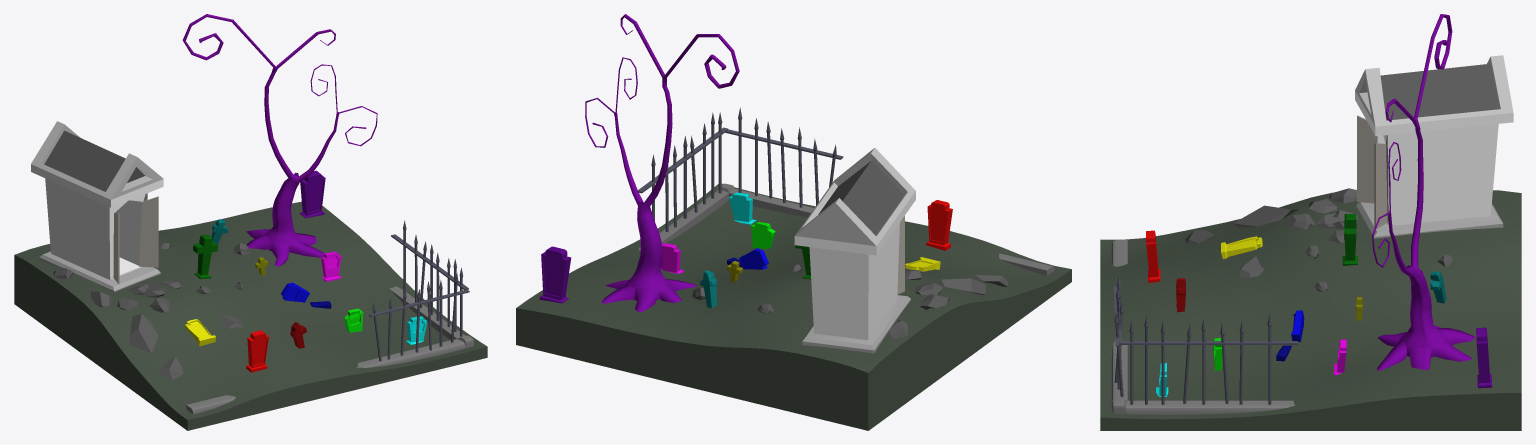
The model's file is MadiganGraveYard.fbx.
3 renders of one model, left to right at view 1: azimuth 30°, elevation 25°; view 2: azimuth 150°, elevation 25°; view 3: azimuth 270°, elevation 25°, orthographic. The views are drawn at different scales.
Visible parts, largest first — view 1: Ground, Cypt, Tree1, Fence_Foundation_2_f_0_, Right_Door, HS_Large, Rock12, HS_Normal1, HS_Cross_L, HS_Small_2, HS_Normal_Broken, Left_Door; view 2: Ground, Cypt, Tree1, Fence_Foundation_2_f_0_, HS_Large, HS_Normal1, HS_Small_1, HS_Small_Broken_1, Rock12; view 3: Ground, Cypt, Tree1, Fence_Foundation_2_f_0_, Left_Door, Right_Door, Rock12, HS_Large, Connector, HS_Cross_L, HS_Normal_Broken, HS_Normal1 (+1 smaller).
Boxes of the visible parts, x1,y1,x2,y2 form: Ground: (14,201,487,430); Cypt: (31,121,163,292); Tree1: (182,14,377,266); Fence_Foundation_2_f_0_: (186,286,473,414); Right_Door: (139,196,158,267); HS_Large: (299,170,325,218); Rock12: (129,313,157,352); HS_Normal1: (246,330,268,372); HS_Cross_L: (193,234,217,279); HS_Small_2: (321,251,341,281); HS_Normal_Broken: (184,319,215,346); Left_Door: (113,212,119,283); Ground: (516,183,1071,430); Cypt: (794,148,915,353); Tree1: (585,14,739,311); Fence_Foundation_2_f_0_: (638,183,1054,275); HS_Large: (539,246,571,303); HS_Normal1: (926,200,952,250); HS_Small_1: (729,192,756,224); HS_Small_Broken_1: (751,222,775,248); Rock12: (940,278,985,294); Ground: (1100,190,1521,430); Cypt: (1355,55,1513,238); Tree1: (1372,14,1474,370); Fence_Foundation_2_f_0_: (1111,240,1294,414); Left_Door: (1357,115,1377,203); Right_Door: (1374,143,1387,229); Rock12: (1233,205,1298,227); HS_Large: (1476,327,1492,388); Connector: (1119,341,1297,344); HS_Cross_L: (1342,214,1357,265); HS_Normal_Broken: (1221,236,1262,259); HS_Normal1: (1146,230,1160,282).
Bounding box in the file's own units: 17.49 × 15.21 × 17.38.
